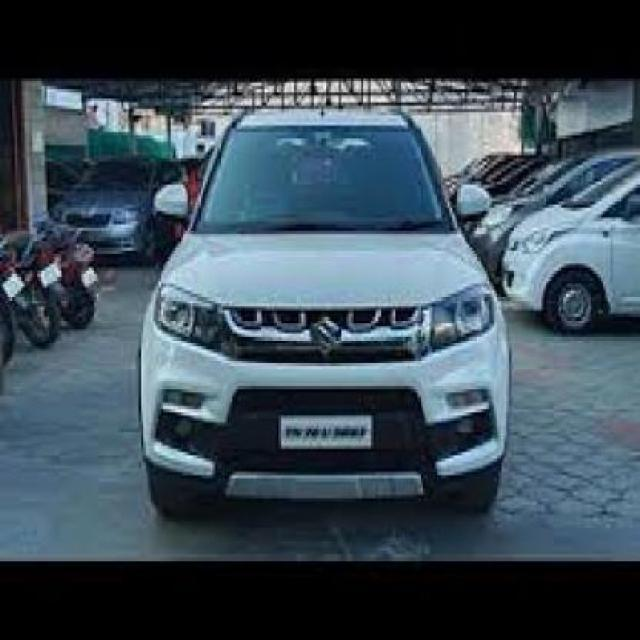vehicle: (140, 94, 516, 517)
